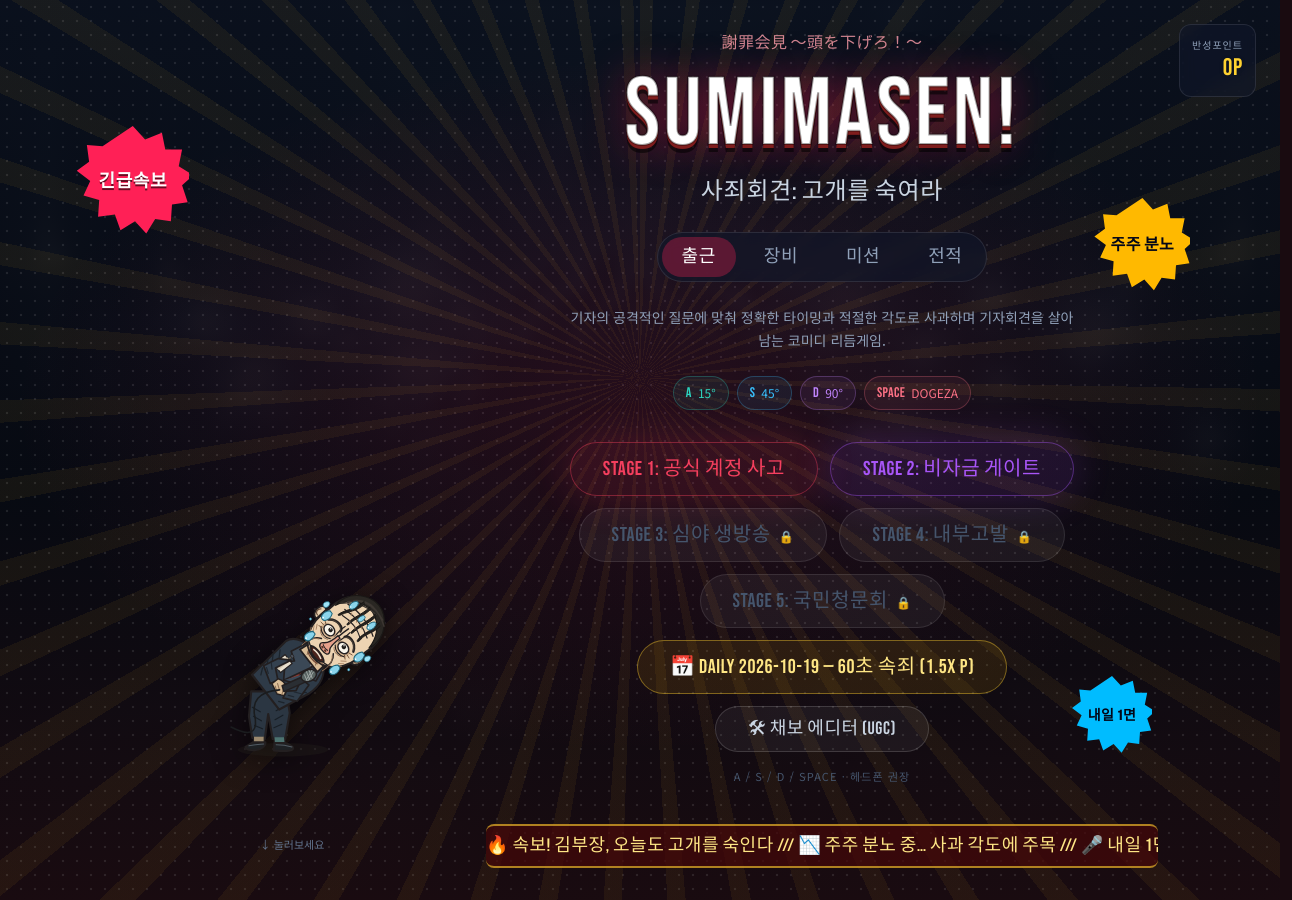
Test: TitleScreen › 기록 탭: 스테이지 베스트와 최근 기록을 보여준다
Step 1. Click the button "전적" → click(945, 257), box [908, 237, 982, 277]
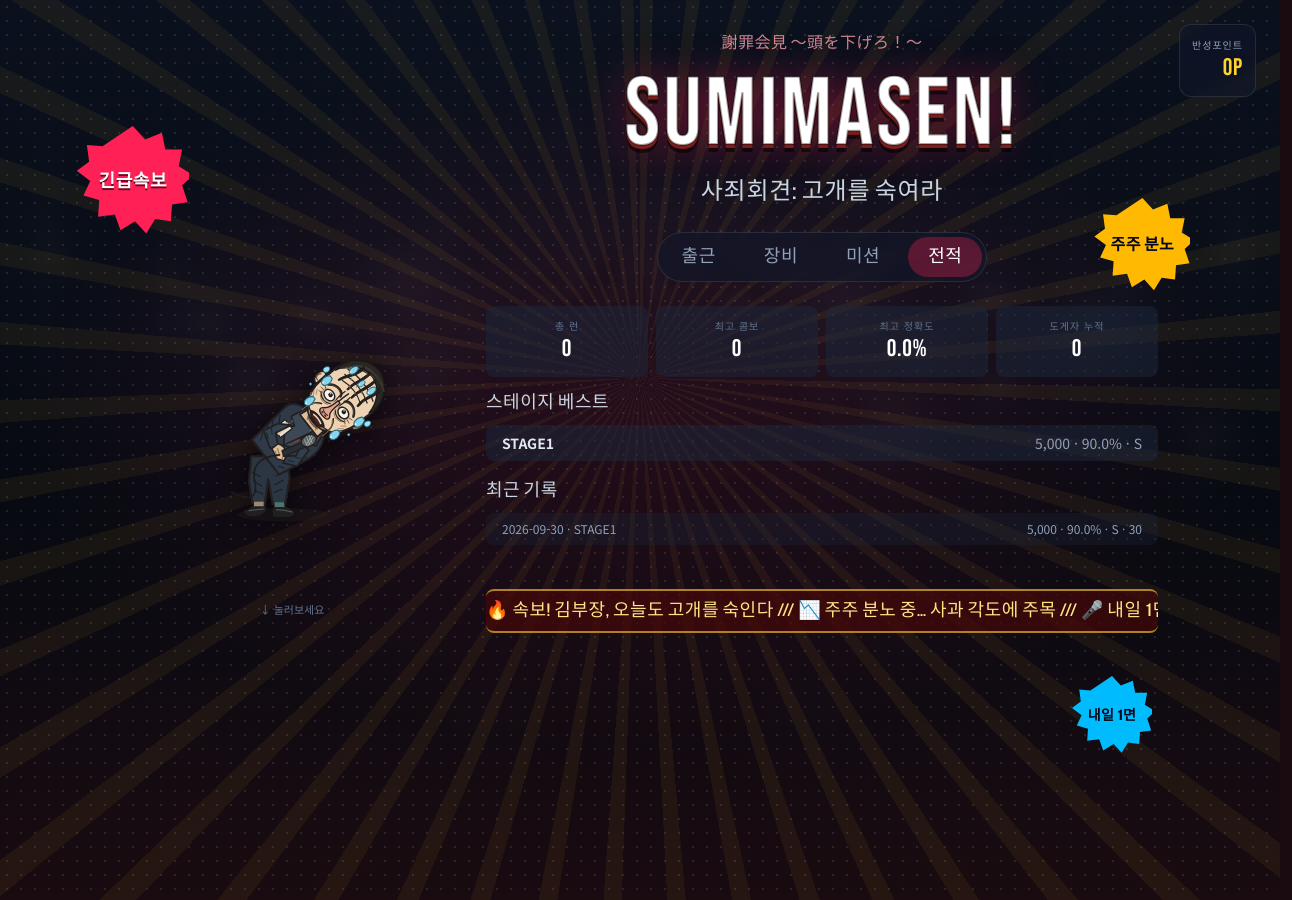
Expected: the text "STAGE1" is shown, [502, 433, 554, 453]
Expected: the text "5,000 · 90.0% · S" is shown, [1035, 433, 1142, 453]
